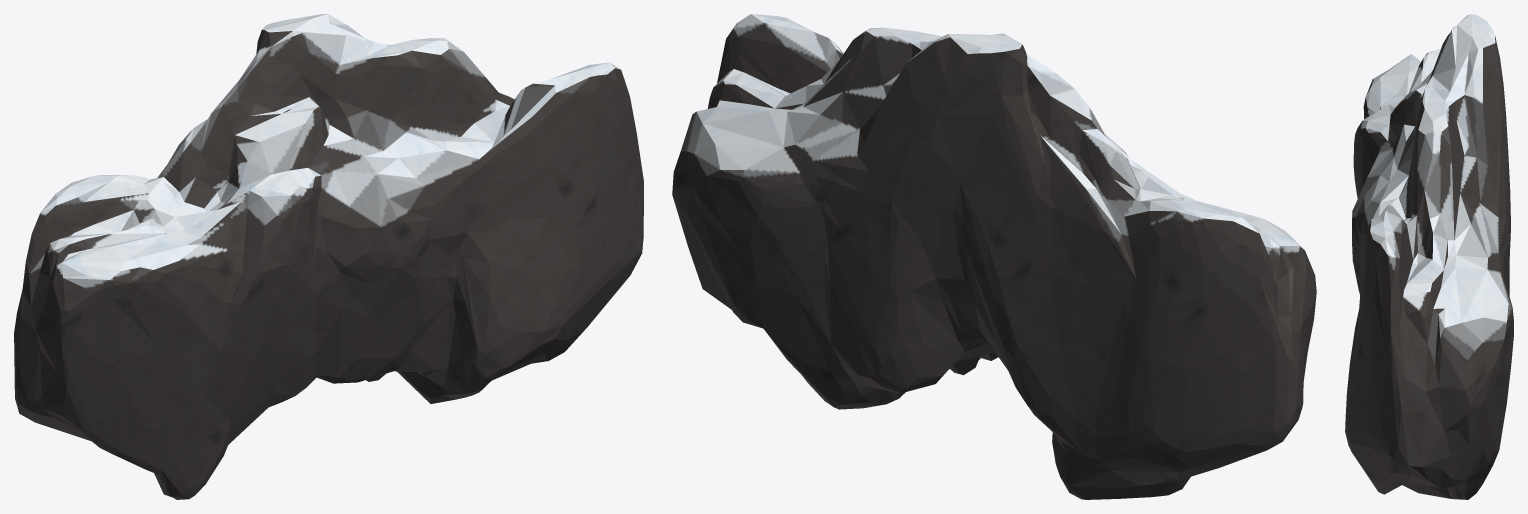
The model's file is pass_wall_b.gltf.
The picture shows the model from 3 angles, left to right: view 1: azimuth 30°, elevation 25°; view 2: azimuth 150°, elevation 25°; view 3: azimuth 270°, elevation 25°; orthographic projection. The views are drawn at different scales.
Parts seen in each view (by area): view 1: pass_wall_b; view 2: pass_wall_b; view 3: pass_wall_b.
Part boxes in pixels (box(x1,y1,x2,y2)): pass_wall_b: box(14, 14, 643, 499); pass_wall_b: box(672, 14, 1316, 499); pass_wall_b: box(1345, 14, 1513, 499).
Bounding box in the file's own units: 10.71 × 7.22 × 2.58.
Materials: 1 (1 with a texture image).
